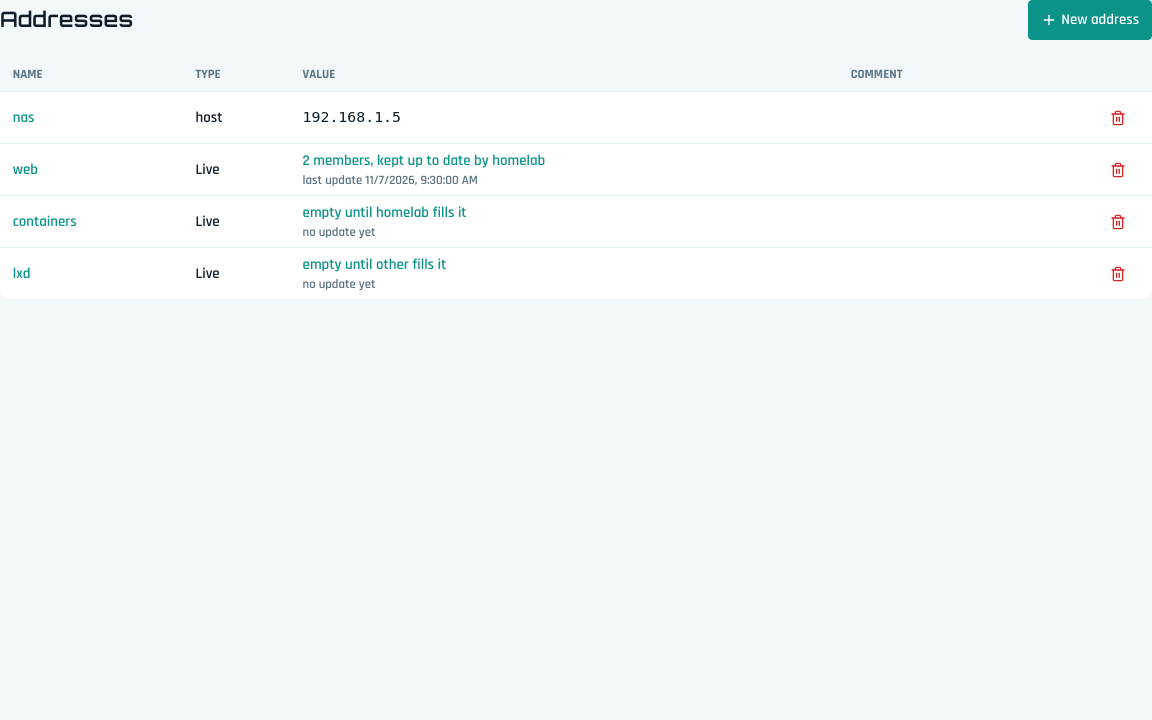
Test: Addresses: live objects › the members drawer lists the members read-only
This screenshot has width=1152, height=720.
Click the button "2 members, kept up to date by homelab": (424, 161) [303,150,545,172]
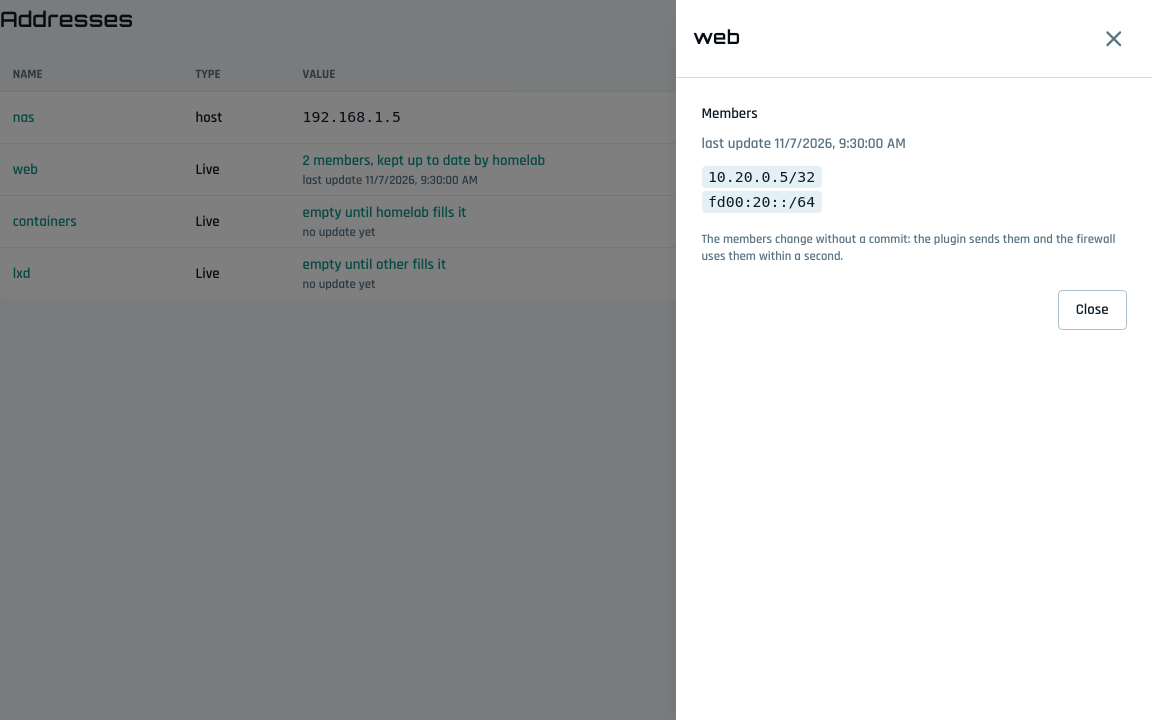
Check: the heading "Members" is shown, box [702,104,758,123]
Check: the text "10.20.0.5/32" is shown 2 times, box [702,166,822,188]; [702,191,822,213]
Click the button "Close": (1092, 310) [1058,290,1126,330]
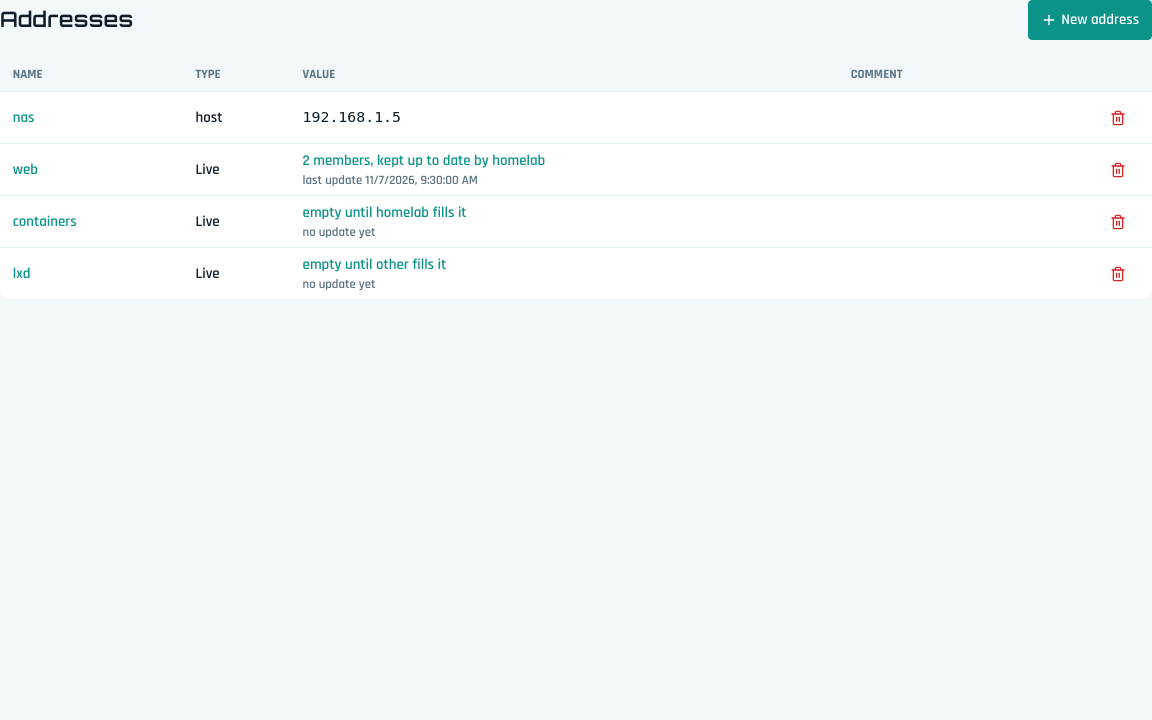
Check: the dialog is gone
